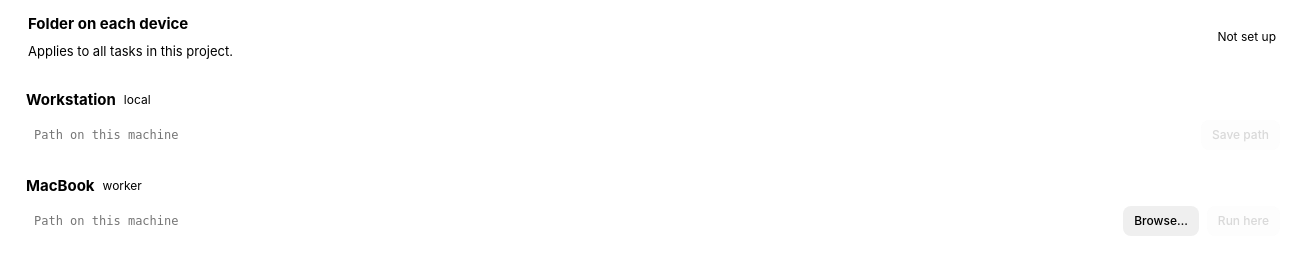
Test case: ProjectWorkspaceHosts › recovers from a native picker failure and can reopen it
Click the button "Browse…" at (1161, 221), box top-left (1123, 206), bottom-right (1199, 236)
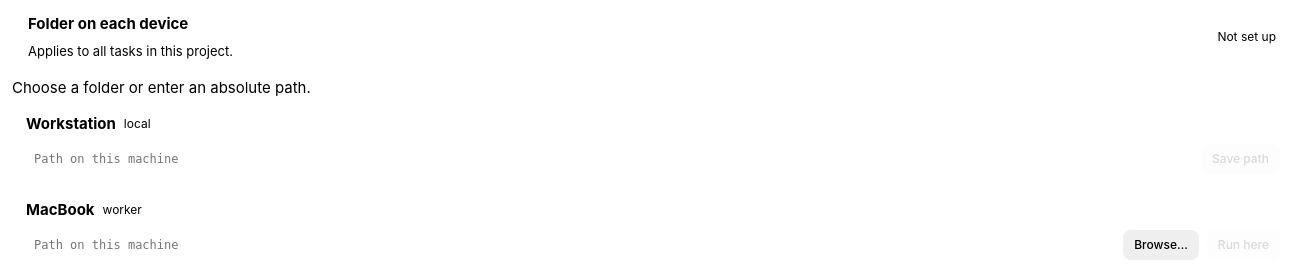
Expected: the message reads "Choose a folder or enter an absolute path.", top-left (12, 78), bottom-right (311, 97)
Click the button "Browse…" at (1161, 245), box top-left (1123, 230), bottom-right (1199, 260)
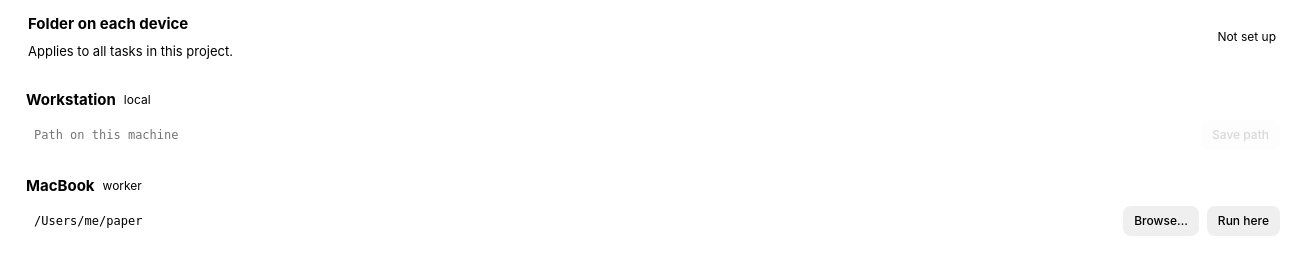
Expected: the field named "Path on this machine · MacBook" holds "/Users/me/paper", top-left (26, 208), bottom-right (1115, 234)
Expected: the message "Choose a folder or enter an absolute path." is gone
